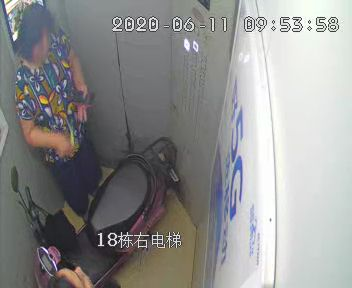Electric-bicycle: (11, 135, 177, 286)
